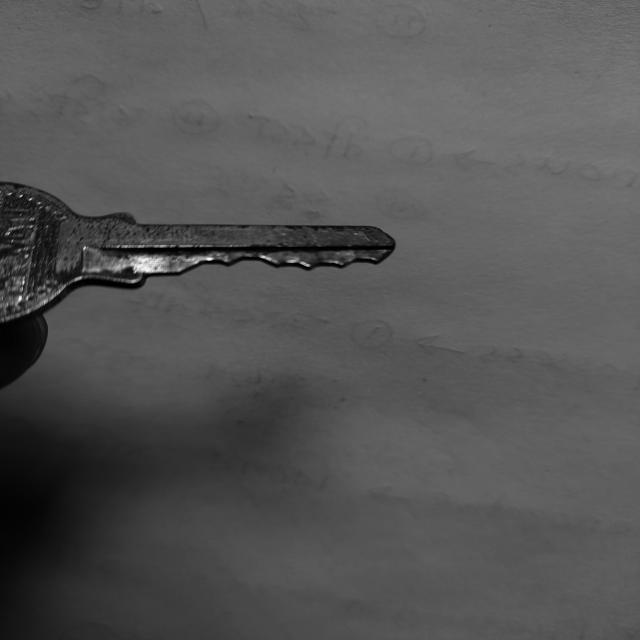KEY: (0, 182, 394, 325)
